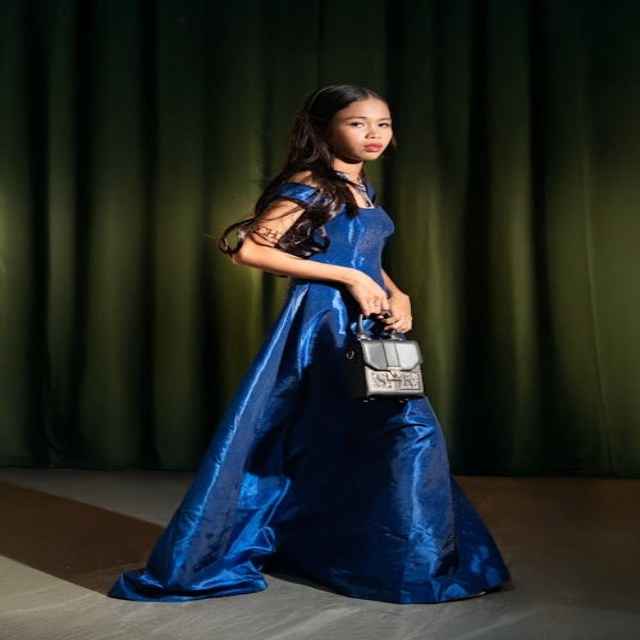Sin_gafas: (337, 114, 397, 130)
Sin_guantes: (344, 263, 389, 315), (385, 292, 417, 335)
Sin_mascara: (351, 141, 387, 159)
